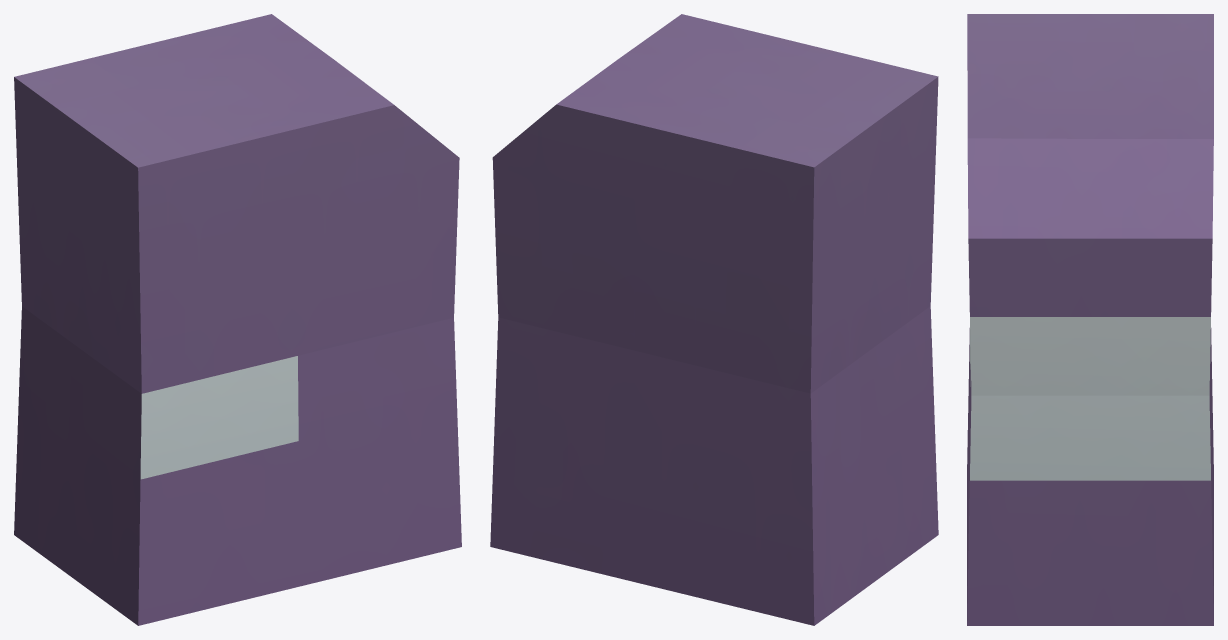
File: Prop_CatSand2.fbx
3 views of the same model, side by side, from view 1: azimuth 30°, elevation 25°; view 2: azimuth 150°, elevation 25°; view 3: azimuth 270°, elevation 25° (orthographic).
Parts seen in each view (by area): view 1: Cube.030; view 2: Cube.030; view 3: Cube.030.
Part boxes in pixels (x1,y1,x2,y2): Cube.030: (14, 14, 461, 625); Cube.030: (490, 14, 938, 625); Cube.030: (967, 14, 1213, 625).
Size of the model in its own units: 27.69 by 37.45 by 18.41.
